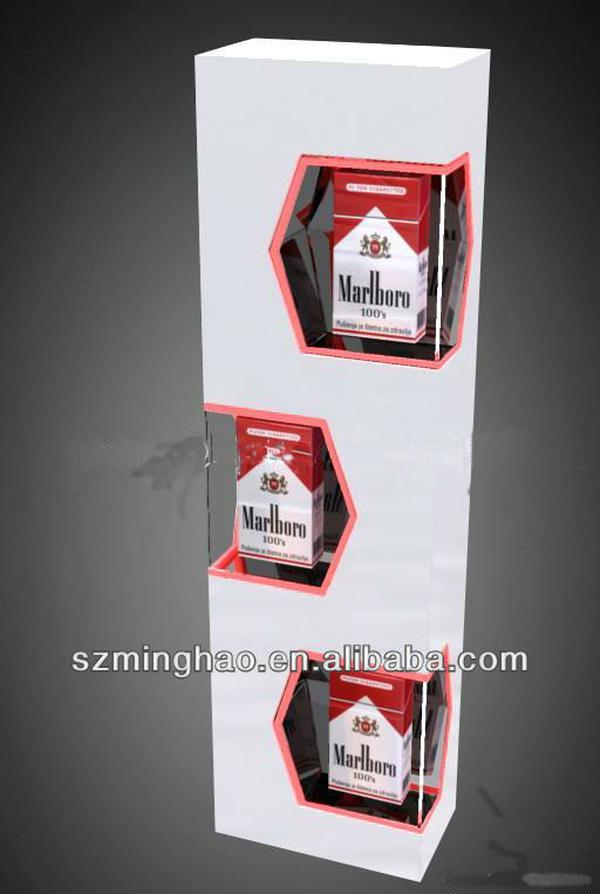marlboro_red: (336, 175, 421, 340), (238, 423, 313, 560), (333, 673, 401, 790)
